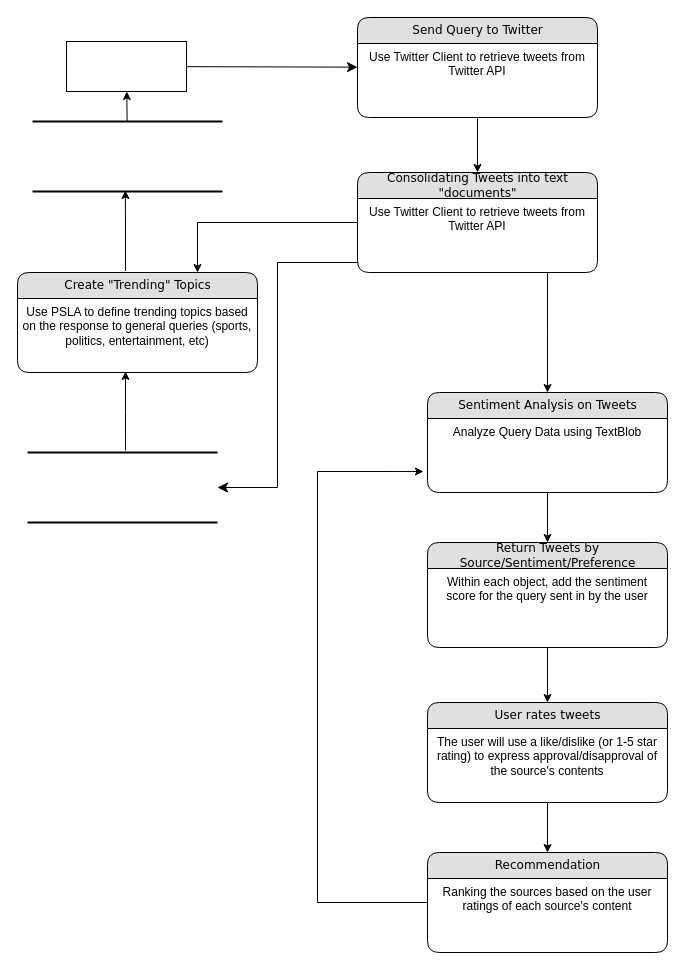
Some shapes in this 685 by 973 pixel diagram are drawn without their labels. The centre of each missing label's shape, as x and y in pixels:
Create new line in text document out of each tweet: (122,487)
Trending Topics: (127,156)
User Query Data: (126,66)
